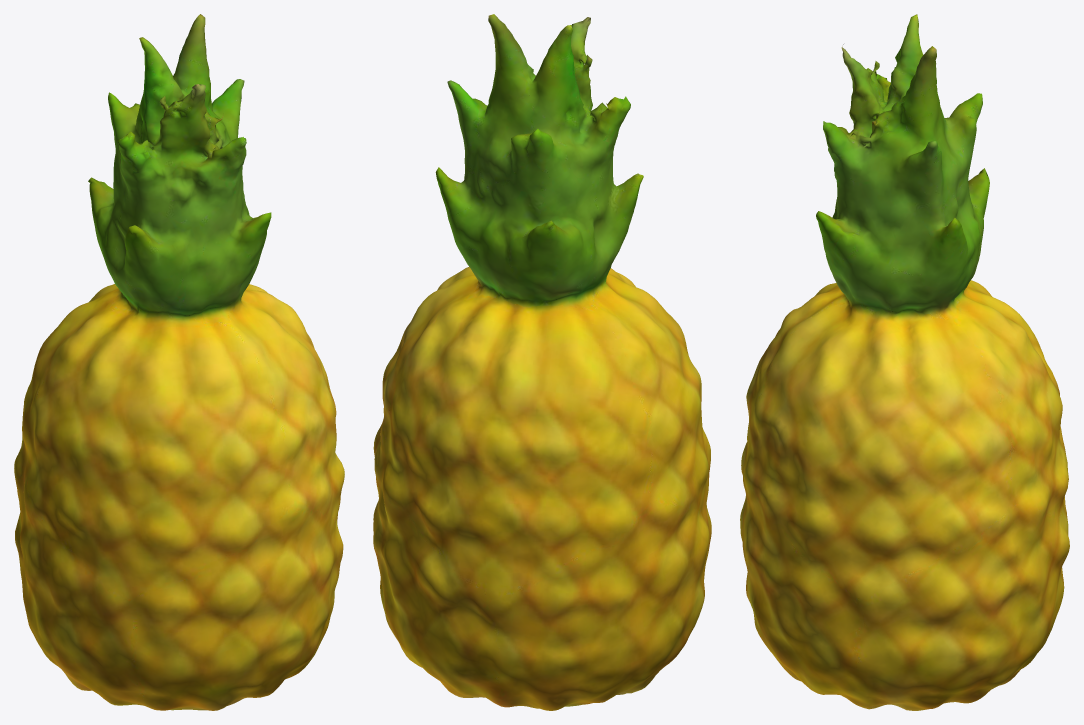
The model's file is a_pineapple_0713224441_preview.fbx.
The picture shows the model from 3 angles, left to right: view 1: azimuth 30°, elevation 25°; view 2: azimuth 150°, elevation 25°; view 3: azimuth 270°, elevation 25°; orthographic projection. The views are drawn at different scales.
Parts seen in each view (by area): view 1: Mesh1; view 2: Mesh1; view 3: Mesh1.
Part boxes in pixels (x1,y1,x2,y2): Mesh1: (14, 14, 344, 710); Mesh1: (373, 14, 711, 710); Mesh1: (740, 14, 1069, 710).
Size of the model in its own units: 54.94 by 120 by 54.93.
Materials: 1 (1 with a texture image).
